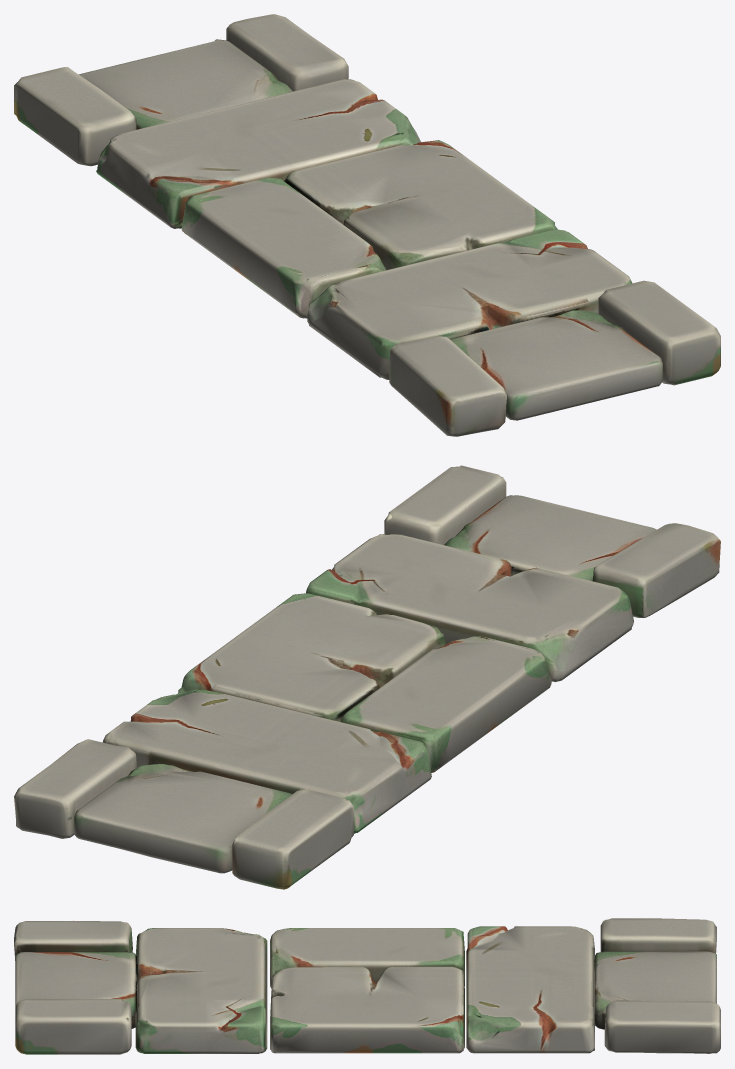
File: tripo_convert_3e77e8fb-6776-4d1d-93cd-f7adbf8db784.fbx
3 renders of one model, top to bottom at view 1: azimuth 30°, elevation 25°; view 2: azimuth 150°, elevation 25°; view 3: azimuth 270°, elevation 25°, orthographic. The views are drawn at different scales.
Parts seen in each view (by area): view 1: tripo_node_3e77e8fb; view 2: tripo_node_3e77e8fb; view 3: tripo_node_3e77e8fb.
Boxes of the visible parts, left/top/right/bottom form: tripo_node_3e77e8fb: left=14, top=14, right=720, bottom=436; tripo_node_3e77e8fb: left=14, top=465, right=720, bottom=889; tripo_node_3e77e8fb: left=14, top=918, right=720, bottom=1054.
Bounding box in the file's own units: 0.3496 × 0.0566 × 0.998.
1 material, 1 textured.
